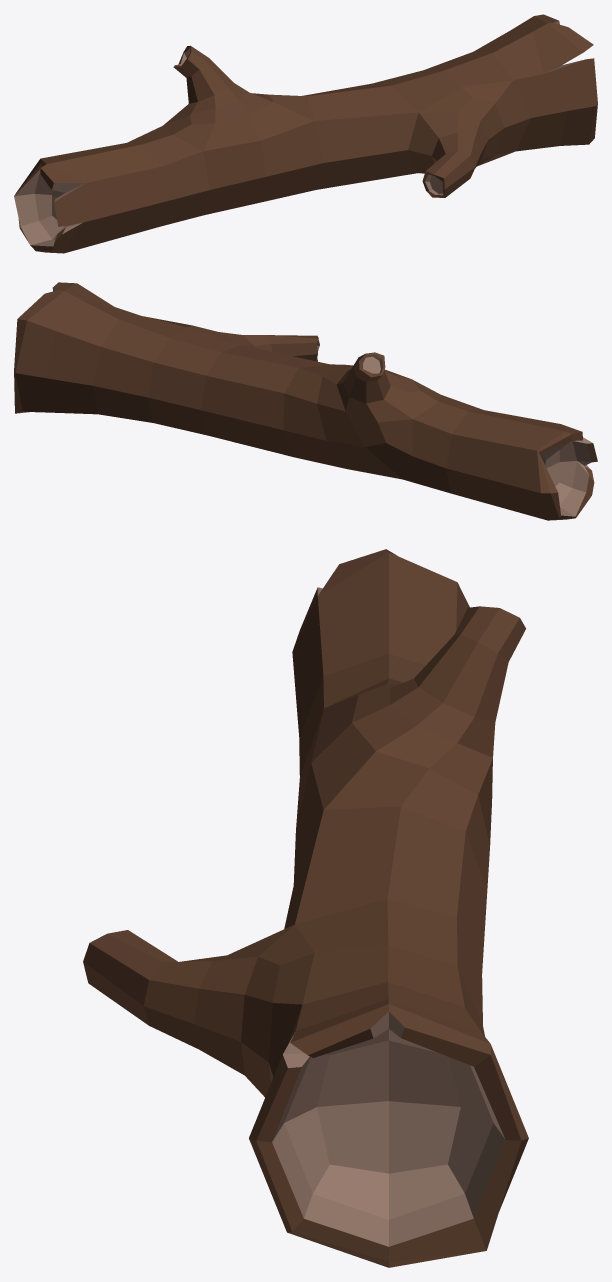
File: koraga.fbx
The picture shows the model from 3 angles, top to bottom: view 1: azimuth 30°, elevation 25°; view 2: azimuth 150°, elevation 25°; view 3: azimuth 270°, elevation 25°; orthographic projection. The views are drawn at different scales.
Parts seen in each view (by area): view 1: Cube; view 2: Cube; view 3: Cube.
Part boxes in pixels (x1,y1,x2,y2): Cube: (14, 14, 597, 253); Cube: (14, 282, 597, 520); Cube: (83, 549, 528, 1267).
Size of the model in its own units: 843 by 240 by 300.
